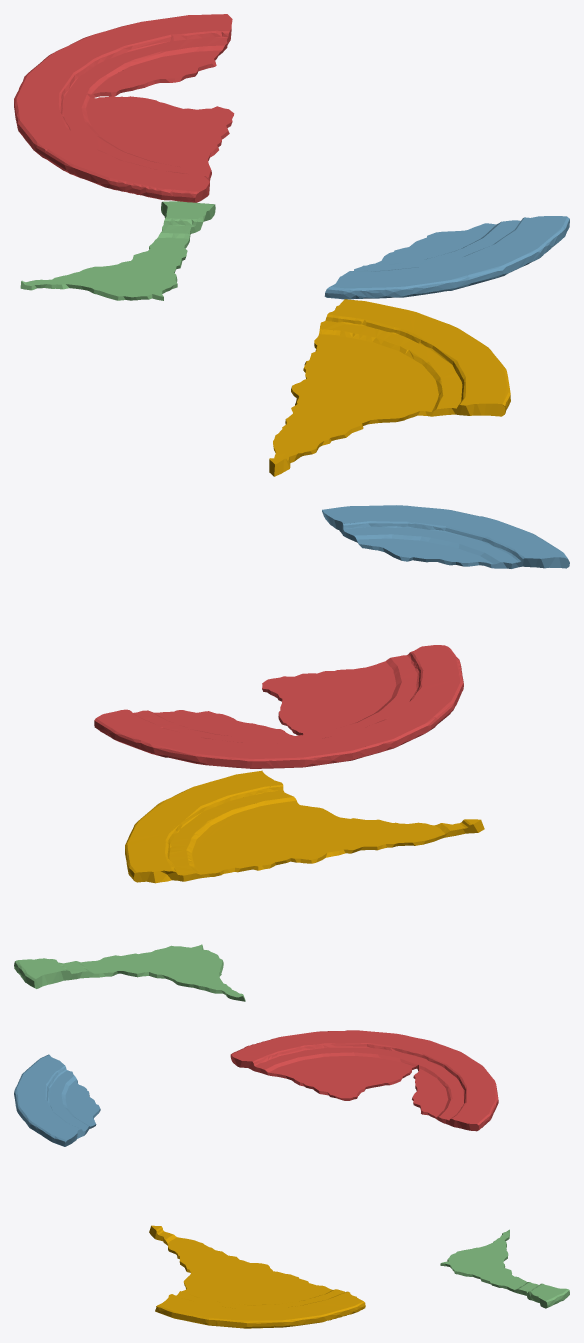
File: fractured_27_4pcs_transformed.glb
The picture shows the model from 3 angles, top to bottom: view 1: azimuth 30°, elevation 25°; view 2: azimuth 150°, elevation 25°; view 3: azimuth 270°, elevation 25°; orthographic projection. The views are drawn at different scales.
Visible parts, largest first — view 1: piece_1.obj, piece_0.obj, piece_2.obj, piece_3.obj; view 2: piece_1.obj, piece_0.obj, piece_2.obj, piece_3.obj; view 3: piece_1.obj, piece_0.obj, piece_2.obj, piece_3.obj.
Part boxes in pixels (x1=…): piece_1.obj: x1=14, y1=14, x2=234, y2=202; piece_0.obj: x1=269, y1=299, x2=510, y2=476; piece_2.obj: x1=324, y1=216, x2=569, y2=299; piece_3.obj: x1=20, y1=201, x2=215, y2=300; piece_1.obj: x1=94, y1=645, x2=463, y2=768; piece_0.obj: x1=125, y1=770, x2=484, y2=883; piece_2.obj: x1=322, y1=505, x2=569, y2=568; piece_3.obj: x1=14, y1=944, x2=245, y2=1001; piece_1.obj: x1=230, y1=1030, x2=498, y2=1131; piece_0.obj: x1=149, y1=1225, x2=365, y2=1328; piece_2.obj: x1=14, y1=1054, x2=100, y2=1146; piece_3.obj: x1=440, y1=1229, x2=569, y2=1308.
Size of the model in its own units: 1 by 0.6276 by 1.84.
